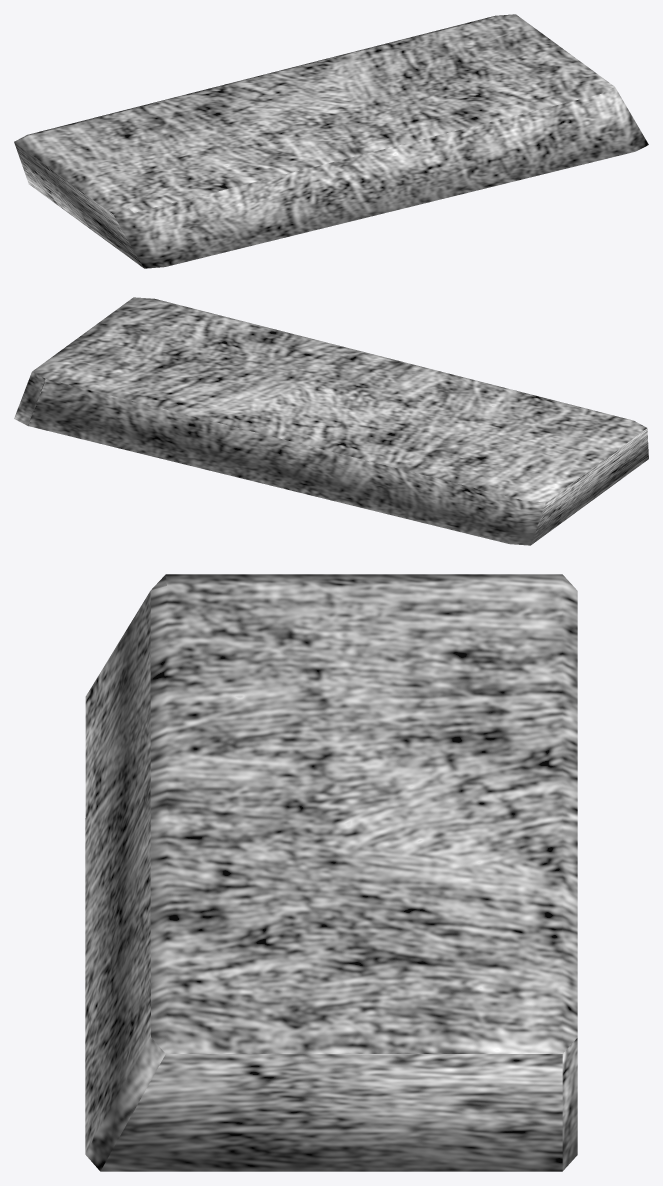
File: techo_paja_punta_4x2.fbx
The picture shows the model from 3 angles, top to bottom: view 1: azimuth 30°, elevation 25°; view 2: azimuth 150°, elevation 25°; view 3: azimuth 270°, elevation 25°; orthographic projection. The views are drawn at different scales.
Visible parts, largest first — view 1: techo_paja_punta_4x2; view 2: techo_paja_punta_4x2; view 3: techo_paja_punta_4x2.
Part boxes in pixels (x1,y1,x2,y2): techo_paja_punta_4x2: (14,14,648,268); techo_paja_punta_4x2: (14,297,648,545); techo_paja_punta_4x2: (85,574,577,1171).
Size of the model in its own units: 396 by 39.85 by 162.
